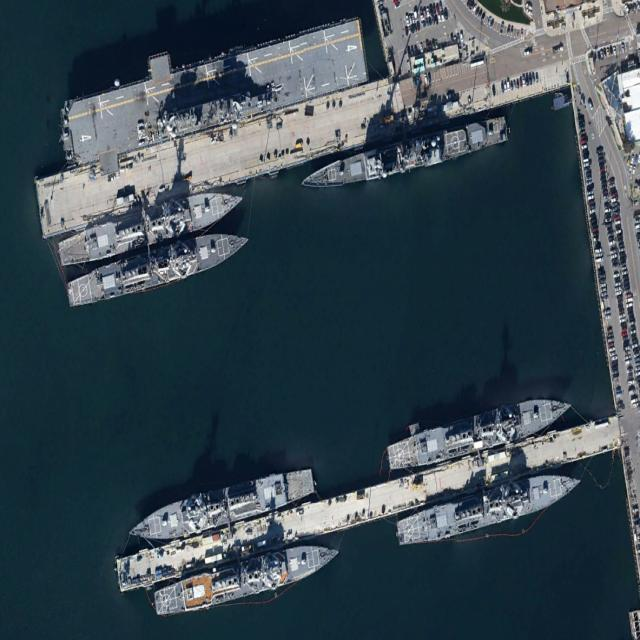Cruiser: (299, 109, 511, 201)
Destroyer: (63, 220, 253, 314), (394, 459, 584, 553), (125, 459, 315, 551), (152, 531, 342, 623), (56, 180, 246, 270), (386, 387, 574, 475)
Landing: (54, 5, 371, 184)
